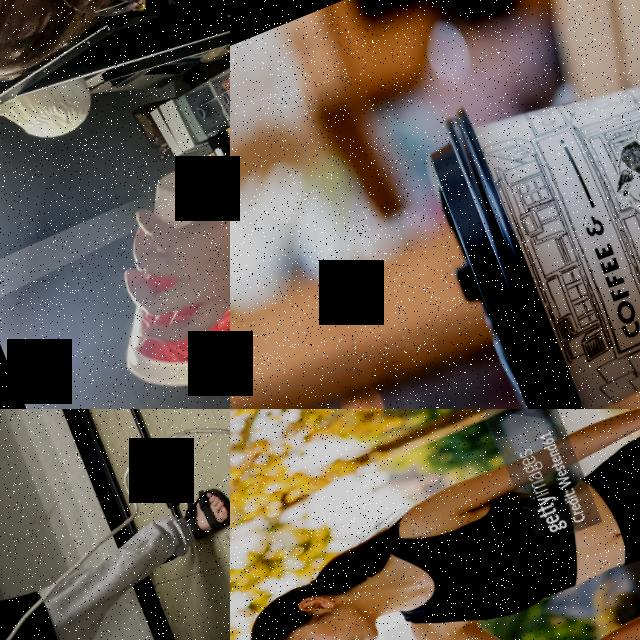cup: (406, 10, 640, 409), (64, 142, 230, 409)
